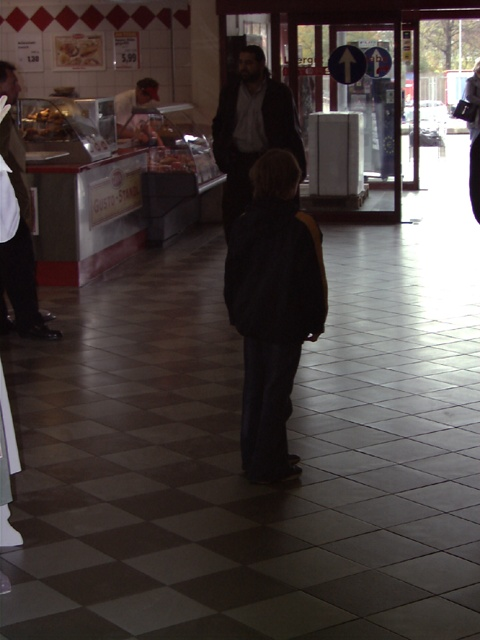person: (229, 148, 331, 488)
